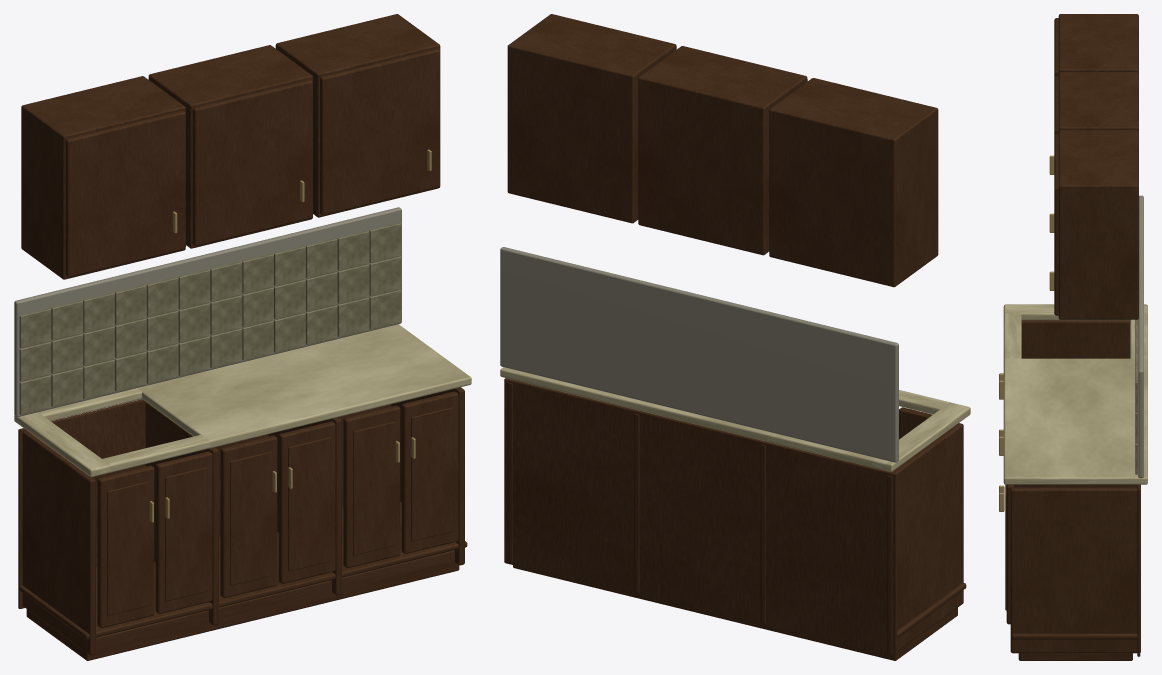
Rendered from kitchenette.glb.
3 views of the same model, side by side, from view 1: azimuth 30°, elevation 25°; view 2: azimuth 150°, elevation 25°; view 3: azimuth 270°, elevation 25° (orthographic). The views are drawn at different scales.
Parts seen in each view (by area): view 1: Laminate countertop.001, Upper cupboard door.002, Upper cupboard door, Upper cupboard door.001, Counter carcass upright, Upper cupboard cabinet, Cabinet plinth, Backsplash grout bed, Upper cupboard cabinet.001, Upper cupboard cabinet.002, Cabinet back, Inset door field.004 (+54 smaller); view 2: Cabinet back, Backsplash grout bed, Upper cupboard cabinet, Upper cupboard cabinet.001, Upper cupboard cabinet.002, Counter carcass upright, Laminate countertop.001, Laminate countertop, Cabinet plinth, Countertop around sink.001, Counter carcass upright.001, Counter carcass upright.002 (+2 smaller); view 3: Counter carcass upright.003, Laminate countertop.001, Upper cupboard cabinet.002, Upper cupboard cabinet, Upper cupboard cabinet.001, Counter carcass upright, Backsplash grout bed, Laminate countertop, Cabinet plinth, Upper cupboard door.002, Cabinet bottom shelf, Countertop around sink (+7 smaller).
Boxes of the visible parts, bbox=[...] form: Laminate countertop.001: bbox=[138, 324, 471, 448]; Upper cupboard door.002: bbox=[320, 48, 440, 215]; Upper cupboard door: bbox=[65, 110, 185, 277]; Upper cupboard door.001: bbox=[192, 79, 312, 246]; Counter carcass upright: bbox=[22, 430, 95, 655]; Upper cupboard cabinet: bbox=[21, 76, 185, 279]; Cabinet plinth: bbox=[26, 550, 459, 660]; Backsplash grout bed: bbox=[14, 207, 401, 416]; Upper cupboard cabinet.001: bbox=[148, 45, 312, 248]; Upper cupboard cabinet.002: bbox=[275, 14, 440, 217]; Cabinet back: bbox=[18, 399, 391, 608]; Inset door field.004: bbox=[353, 421, 395, 555]; Cabinet back: bbox=[504, 378, 897, 658]; Backsplash grout bed: bbox=[500, 247, 898, 462]; Upper cupboard cabinet: bbox=[769, 78, 938, 287]; Upper cupboard cabinet.001: bbox=[638, 46, 807, 255]; Upper cupboard cabinet.002: bbox=[507, 14, 676, 223]; Counter carcass upright: bbox=[887, 423, 963, 655]; Laminate countertop.001: bbox=[500, 367, 771, 441]; Laminate countertop: bbox=[871, 402, 970, 471]; Cabinet plinth: bbox=[513, 565, 957, 660]; Countertop around sink.001: bbox=[769, 432, 873, 467]; Counter carcass upright.001: bbox=[760, 444, 765, 624]; Counter carcass upright.002: bbox=[634, 413, 639, 593]; Counter carcass upright.003: bbox=[1010, 487, 1140, 653]; Laminate countertop.001: bbox=[1003, 358, 1147, 484]; Upper cupboard cabinet.002: bbox=[1058, 130, 1138, 319]; Upper cupboard cabinet: bbox=[1058, 14, 1138, 73]; Upper cupboard cabinet.001: bbox=[1058, 72, 1138, 131]; Counter carcass upright: bbox=[1021, 320, 1129, 358]; Backsplash grout bed: bbox=[1138, 195, 1143, 478]; Laminate countertop: bbox=[1003, 304, 1147, 320]; Cabinet plinth: bbox=[1018, 653, 1132, 660]; Upper cupboard door.002: bbox=[1054, 134, 1058, 315]; Cabinet bottom shelf: bbox=[1011, 633, 1138, 639]; Countertop around sink: bbox=[1003, 313, 1021, 359].
Size of the model in its own units: 1.82 by 2.3 by 0.651.
5 materials, 3 textured.
